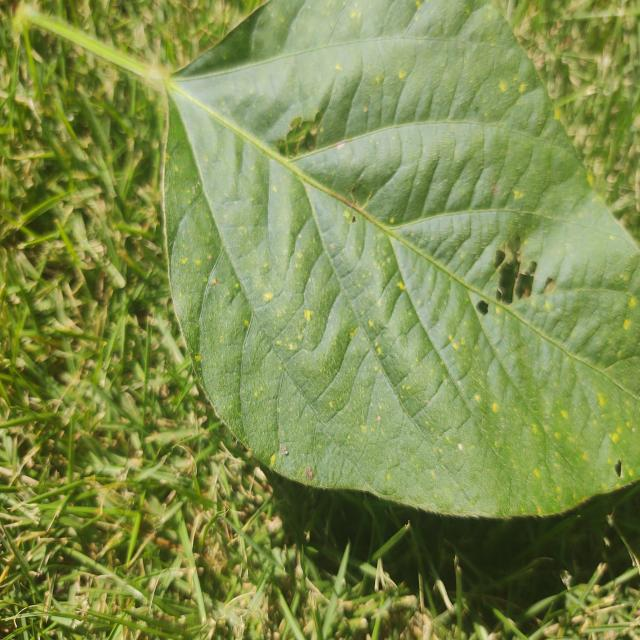Soybean: (161, 0, 640, 523)
downey_mildew: (386, 50, 458, 140), (485, 238, 554, 309), (277, 109, 323, 157), (493, 232, 523, 273), (392, 270, 422, 307), (495, 259, 519, 305), (495, 62, 519, 108), (261, 169, 290, 204), (481, 394, 514, 424), (587, 387, 617, 419), (299, 300, 324, 337), (346, 185, 367, 226), (359, 314, 381, 350), (278, 440, 301, 470), (257, 279, 280, 309), (493, 248, 506, 271), (476, 300, 489, 315), (614, 459, 623, 478), (490, 183, 496, 195)
